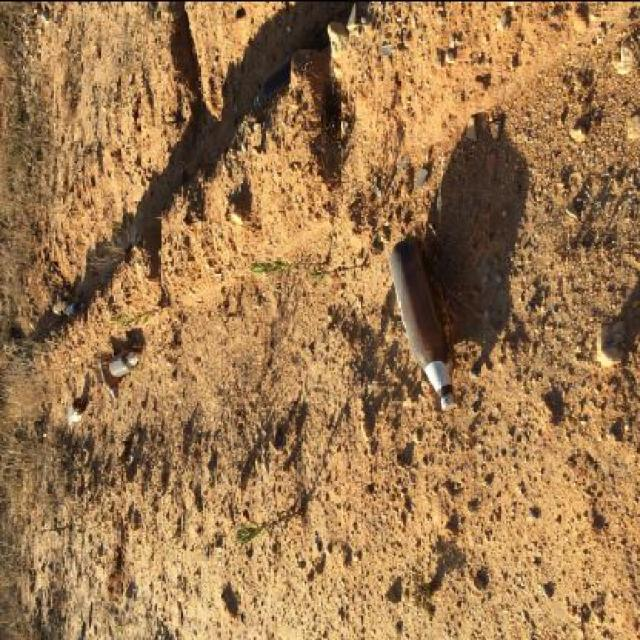glass: (387, 234, 458, 412), (98, 351, 120, 397), (108, 348, 141, 375), (67, 396, 85, 424), (68, 299, 86, 313)
